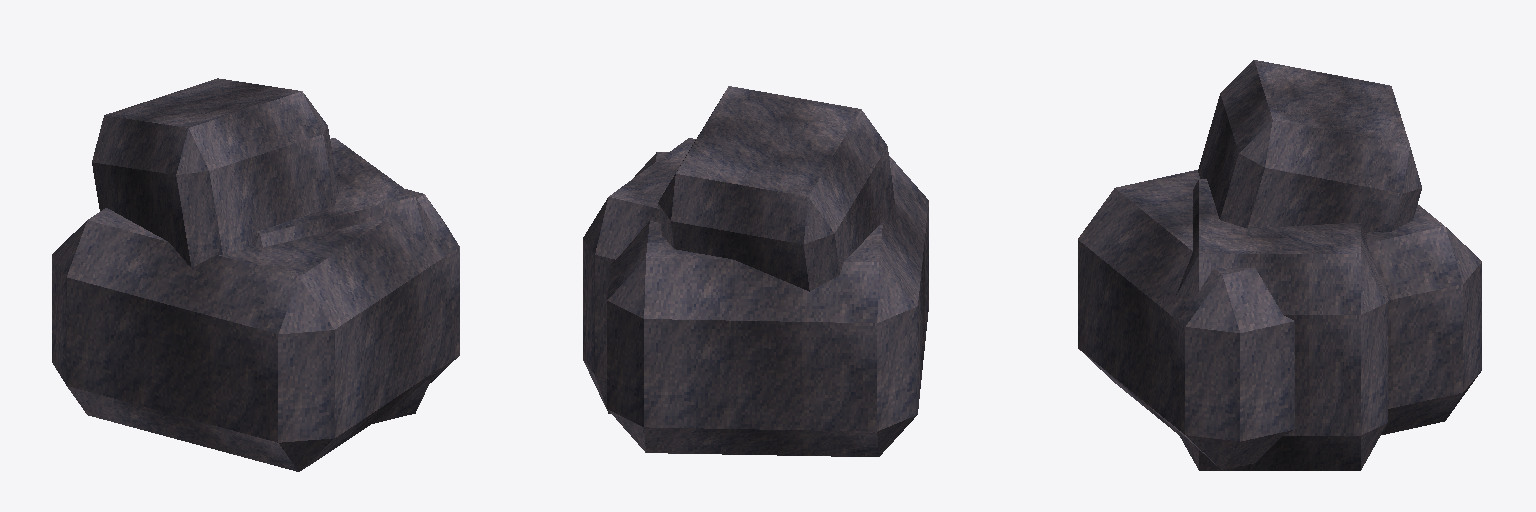
3 renders of one model, left to right at view 1: azimuth 30°, elevation 25°; view 2: azimuth 150°, elevation 25°; view 3: azimuth 270°, elevation 25°, orthographic.
Parts seen in each view (by area): view 1: beveled_cuboid; view 2: beveled_cuboid; view 3: beveled_cuboid.
Part boxes in pixels (bbox=[...]): beveled_cuboid: bbox=[52, 78, 459, 471]; beveled_cuboid: bbox=[583, 86, 928, 456]; beveled_cuboid: bbox=[1078, 60, 1481, 470].
Bounding box in the file's own units: 1.02 × 0.9054 × 1.06.
1 materials, 1 textured.